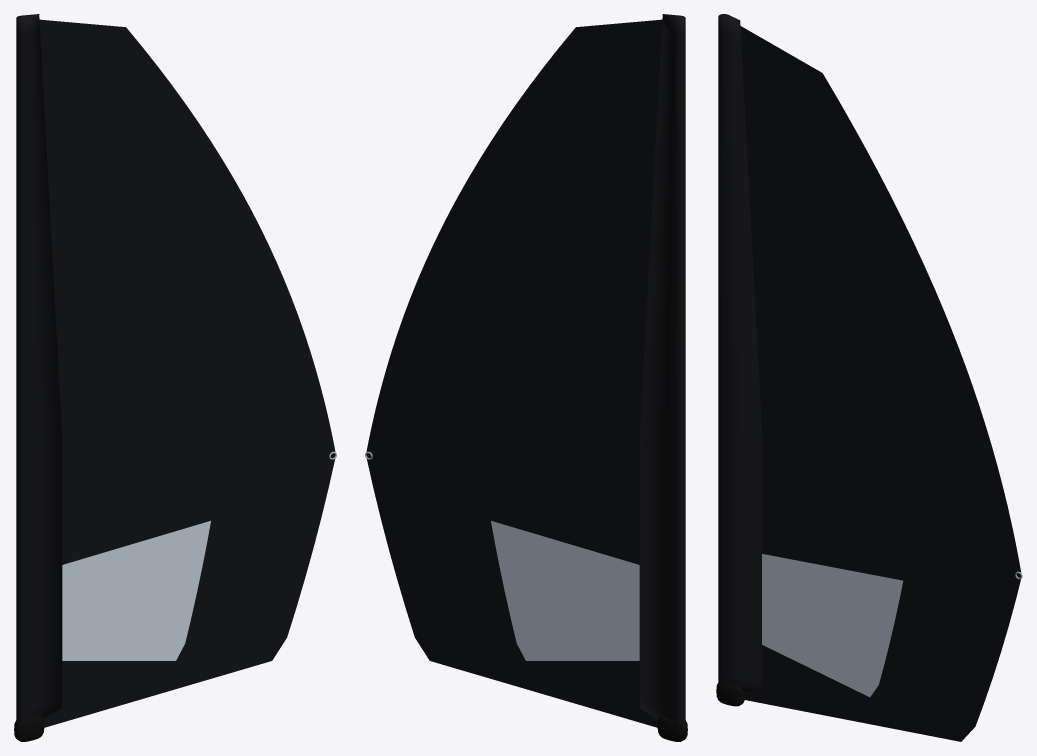
Rendered from point9_slalom_6_8.glb.
3 views of the same model, side by side, from view 1: azimuth 30°, elevation 25°; view 2: azimuth 150°, elevation 25°; view 3: azimuth 330°, elevation 25° (orthographic). The views are drawn at different scales.
Visible parts, largest first — view 1: SailCloth, TackFairing; view 2: SailCloth, TackFairing; view 3: SailCloth, TackFairing.
Part boxes in pixels (<box>): SailCloth: <box>16,14,335,727</box>; TackFairing: <box>14,716,44,741</box>; SailCloth: <box>366,14,685,727</box>; TackFairing: <box>657,716,687,741</box>; SailCloth: <box>718,14,1021,741</box>; TackFairing: <box>716,683,744,706</box>.
Size of the model in its own units: 2.09 by 4.51 by 0.08.
